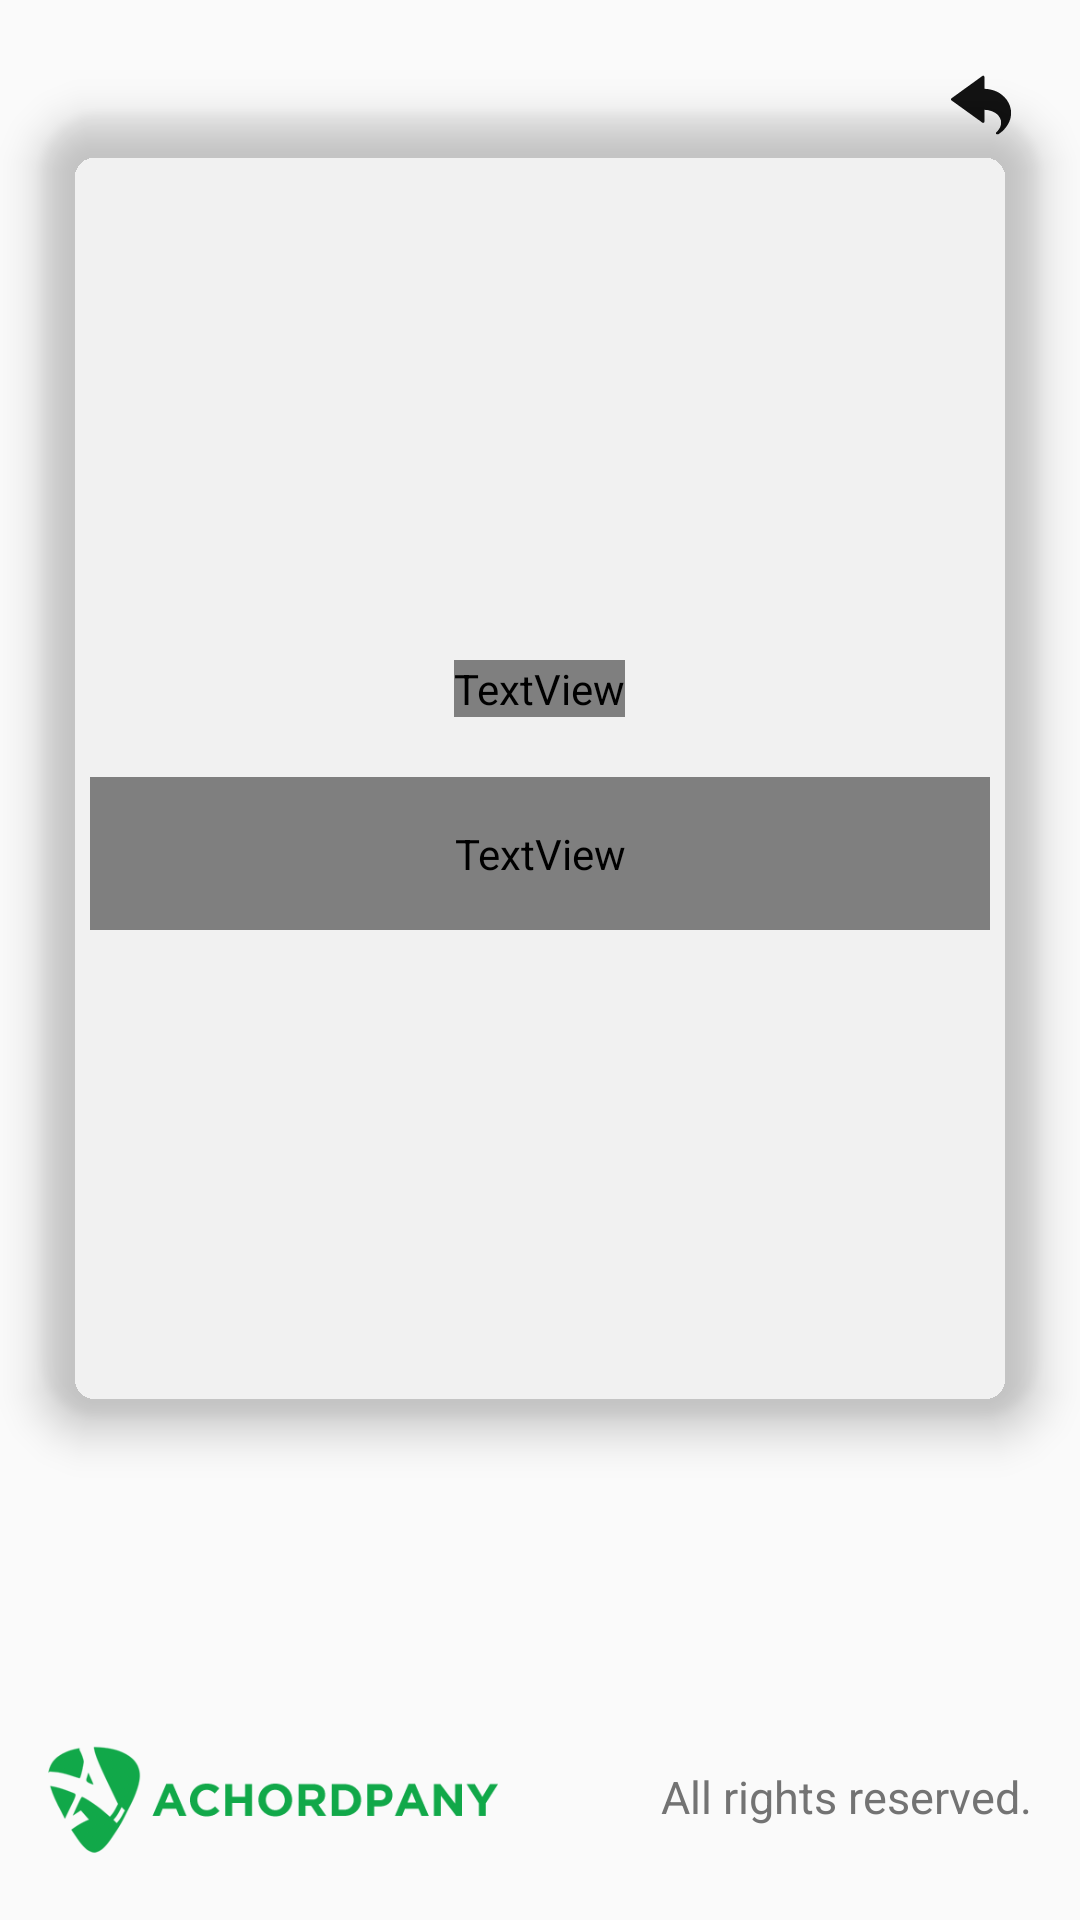

Icon click points for this 1080x1920 phone screenshot, format point (x, y):
Back: point (981, 117)
